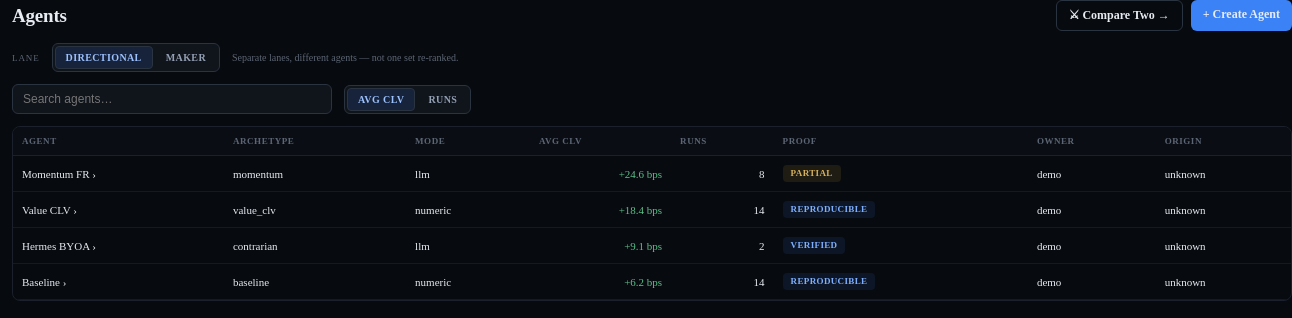
Test: AgentsScreen (REQ-017) › filters by search text
This screenshot has width=1292, height=318.
In the search field: (172, 99) [12, 84, 332, 114], type "momentum"
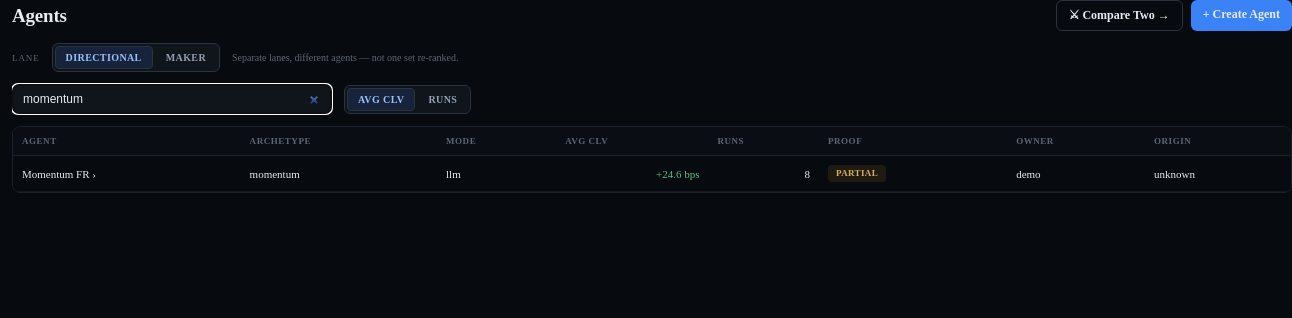
Expected: the link "Momentum FR ›" is shown, [22, 168, 96, 180]
Now the link "Value CLV" is gone
